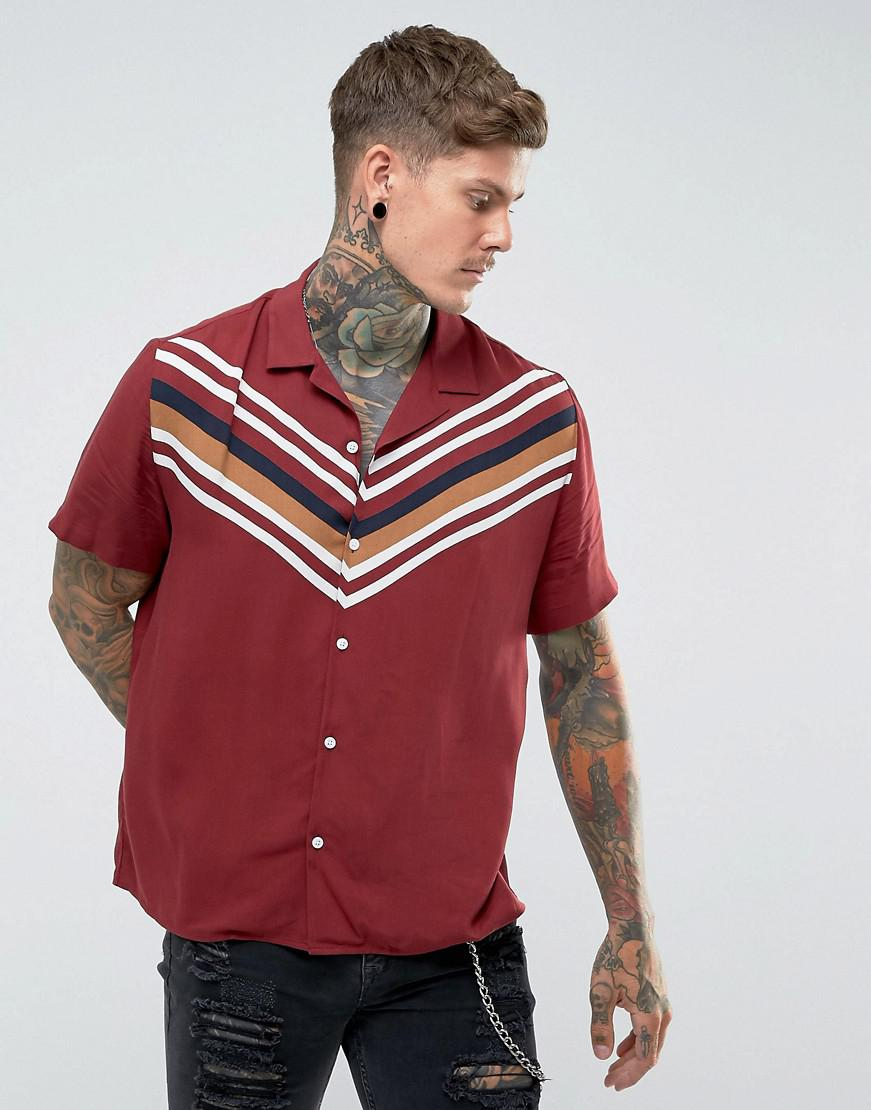teeshirt: (42, 246, 630, 959)
